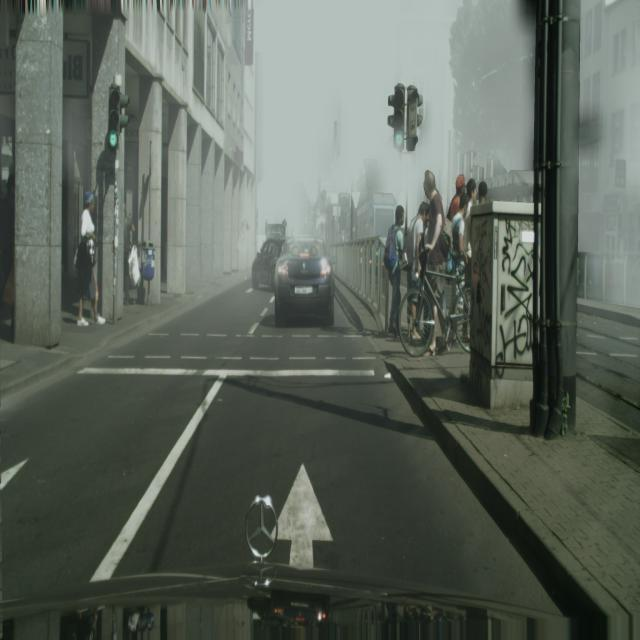bicycle: (352, 187, 401, 270)
car: (400, 254, 470, 358)
person: (421, 168, 450, 353), (383, 204, 408, 339), (75, 191, 99, 326), (123, 200, 136, 309), (451, 195, 467, 272), (448, 174, 467, 226), (463, 178, 478, 226), (476, 179, 488, 203)
truck: (273, 236, 334, 328), (252, 238, 290, 290)
